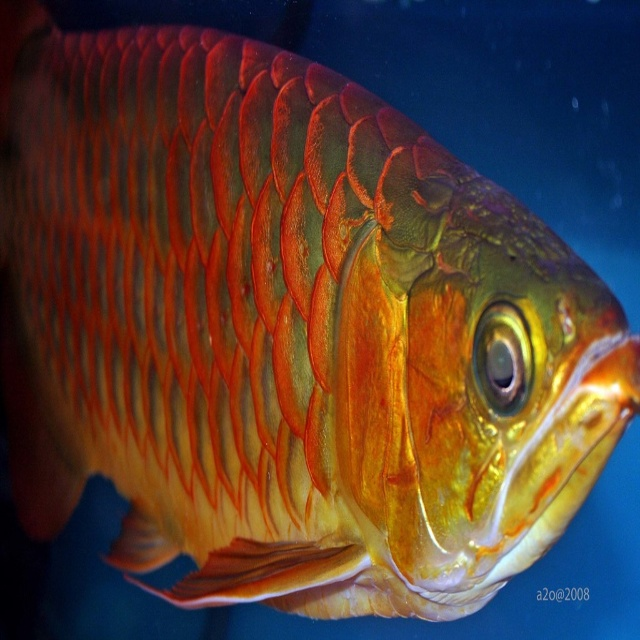Goldfish: (4, 109, 629, 630)
